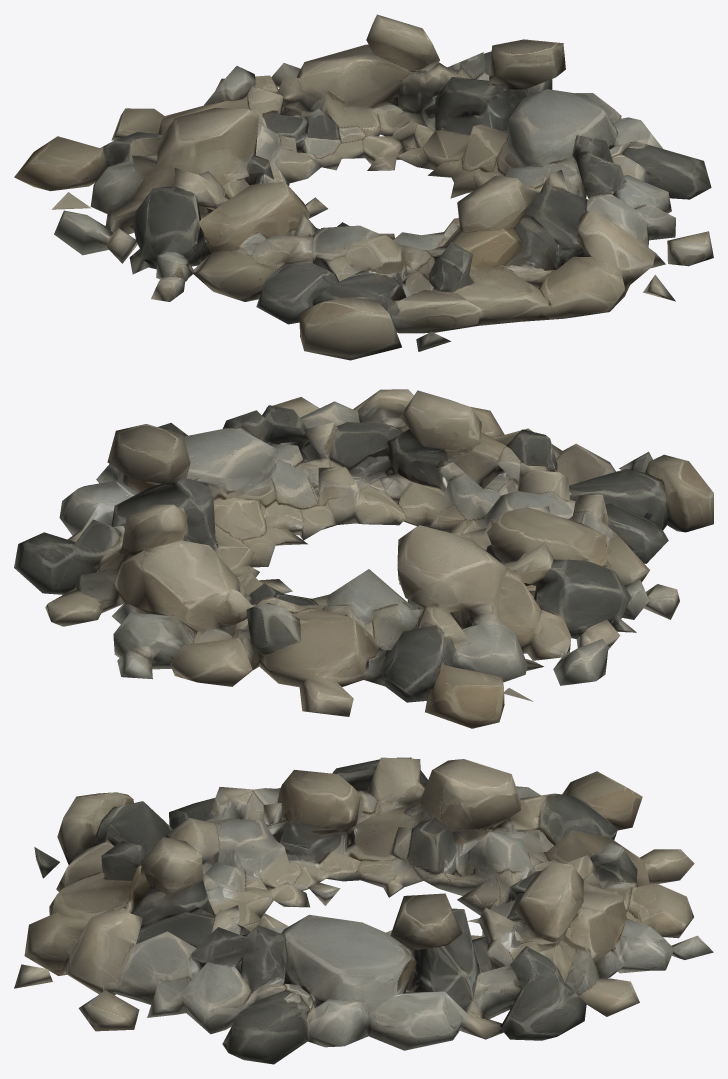
The picture shows the model from 3 angles, top to bottom: view 1: azimuth 30°, elevation 25°; view 2: azimuth 150°, elevation 25°; view 3: azimuth 270°, elevation 25°; orthographic projection. The views are drawn at different scales.
Parts seen in each view (by area): view 1: Mesh_0; view 2: Mesh_0; view 3: Mesh_0.
Boxes of the visible parts, box(x1,y1,x2,y2) form: Mesh_0: box(14, 14, 713, 360); Mesh_0: box(14, 389, 713, 728); Mesh_0: box(14, 757, 713, 1064).
Size of the model in its own units: 1.82 by 0.3633 by 1.93.
Materials: 1 (1 with a texture image).
